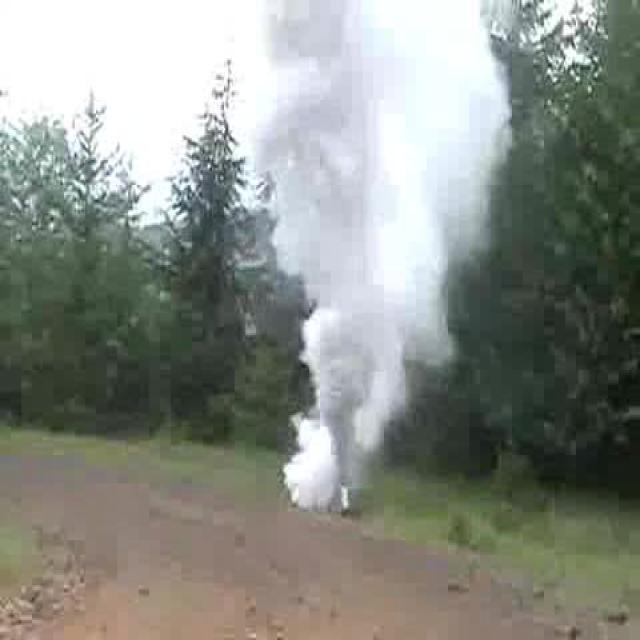Smoke: (262, 1, 506, 512)
